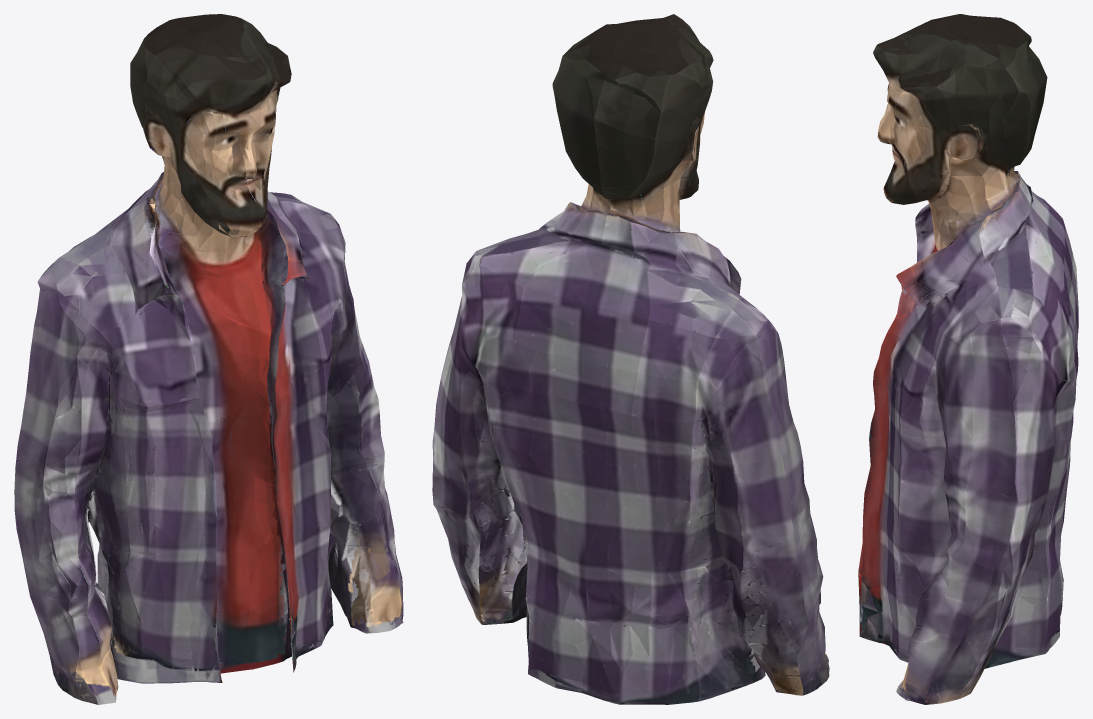
File: step_9.glb
3 views of the same model, side by side, from view 1: azimuth 30°, elevation 25°; view 2: azimuth 150°, elevation 25°; view 3: azimuth 270°, elevation 25° (orthographic). The views are drawn at different scales.
Parts seen in each view (by area): view 1: geometry_0; view 2: geometry_0; view 3: geometry_0.
Part boxes in pixels (x1,y1,x2,y2): geometry_0: (14, 14, 403, 704); geometry_0: (432, 14, 829, 704); geometry_0: (858, 14, 1078, 704).
Size of the model in its own units: 0.5031 by 0.8284 by 0.2748.
Materials: 1 (1 with a texture image).
